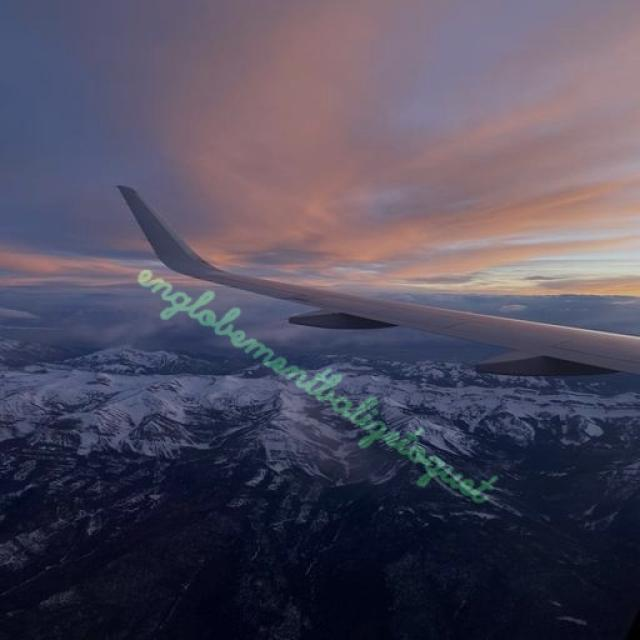watermark: (127, 247, 513, 513)
